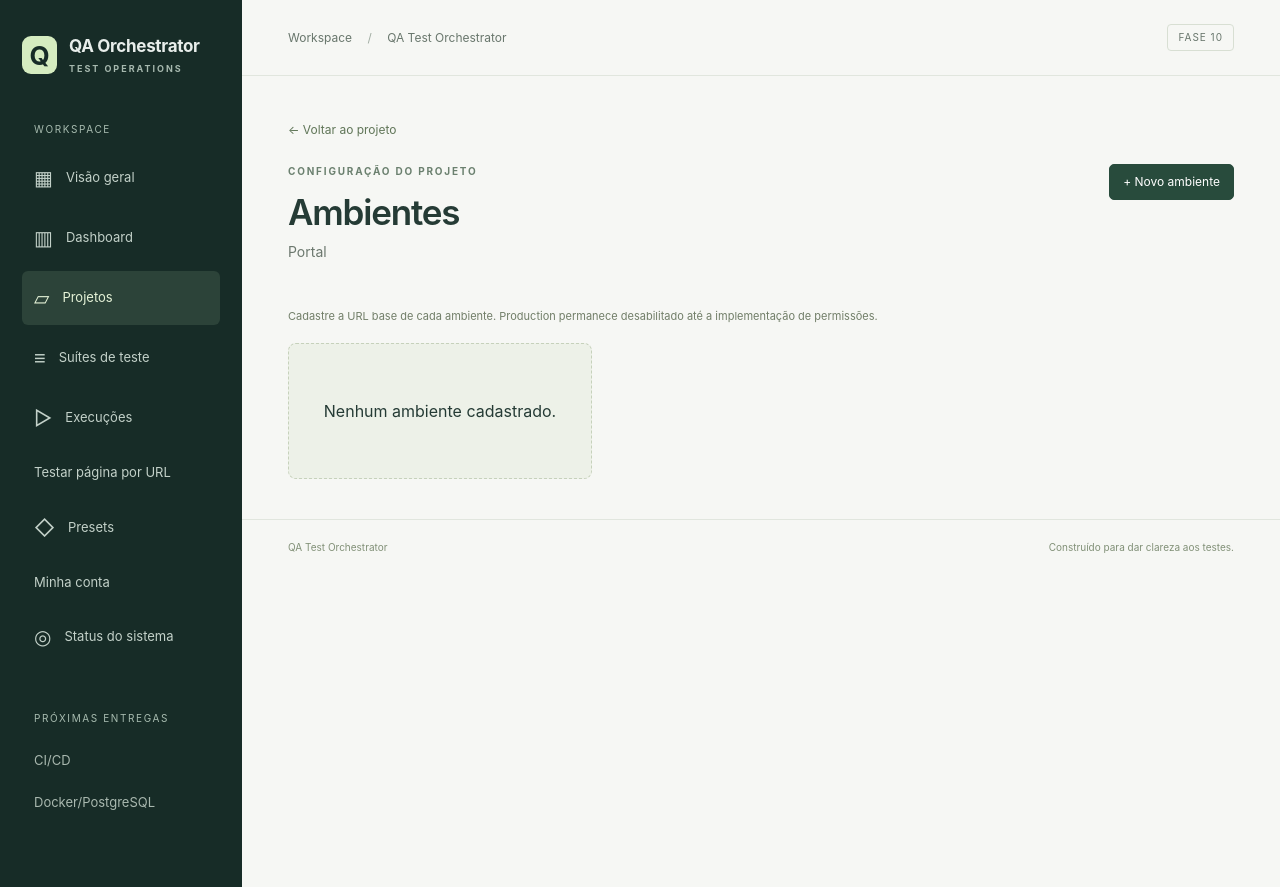
bloqueia Production e preserva URL em erro de gravação
Step 1. Click the button "+ Novo ambiente" → click(1172, 182), box [1109,164,1234,200]
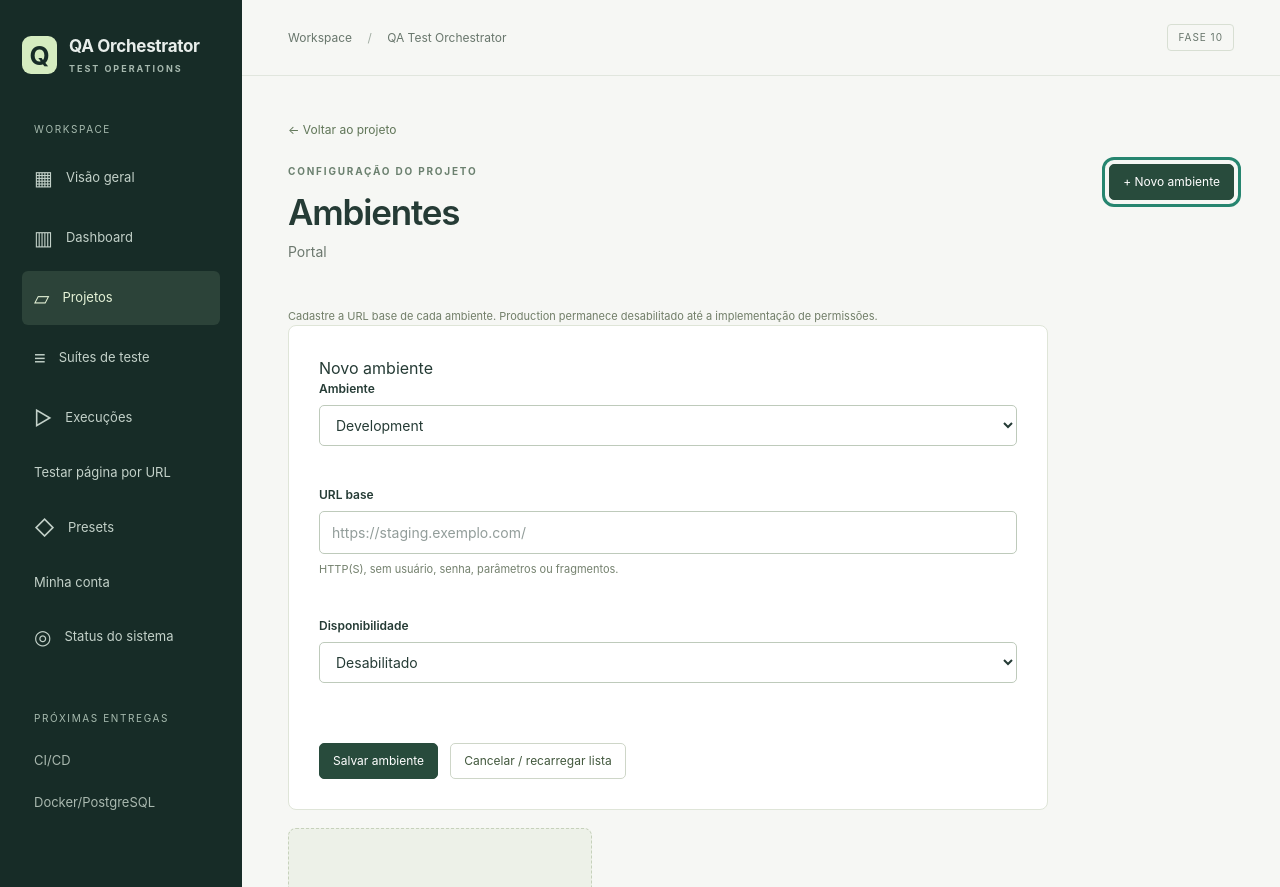
Step 2. Select "Production" in the dropdown labelled "Ambiente" → (668, 425), box [319,404,1017,446]
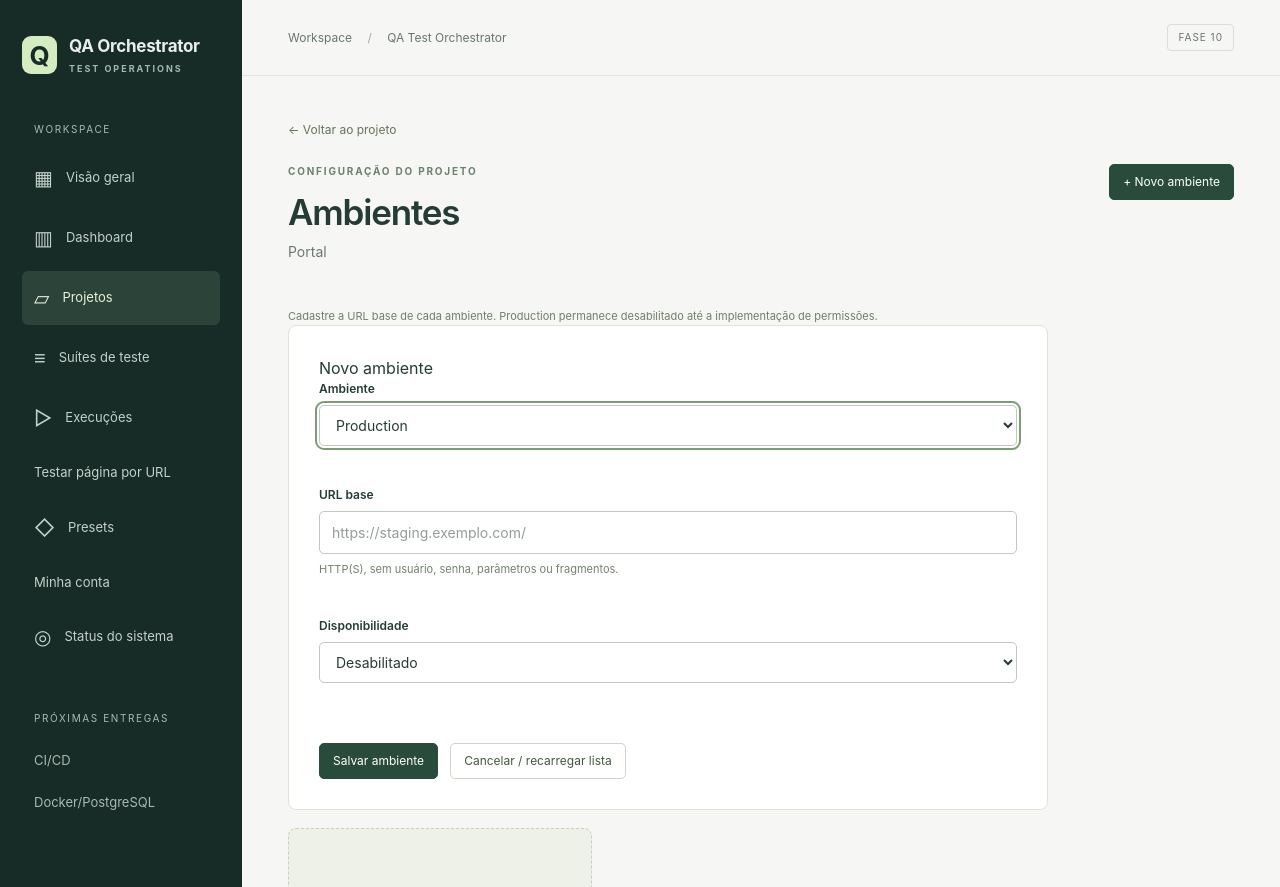
Expected: the dropdown labelled "Disponibilidade" is disabled, [319,642,1017,683]
Step 3. Type "https://example.com" into the field labelled "URL base" → (668, 532), box [319,510,1017,554]
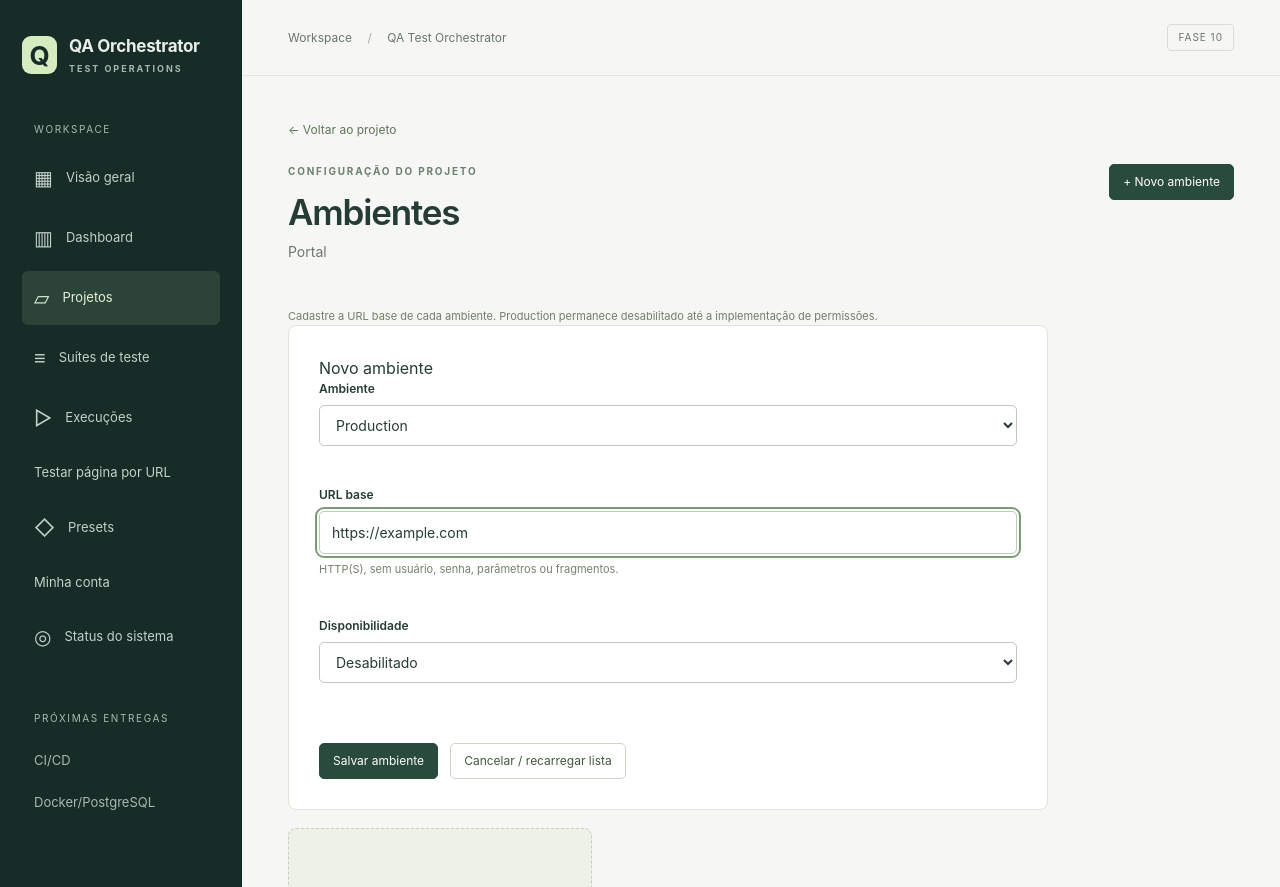
Step 4. Click the button "Salvar ambiente" → click(379, 761), box [319,743,438,779]
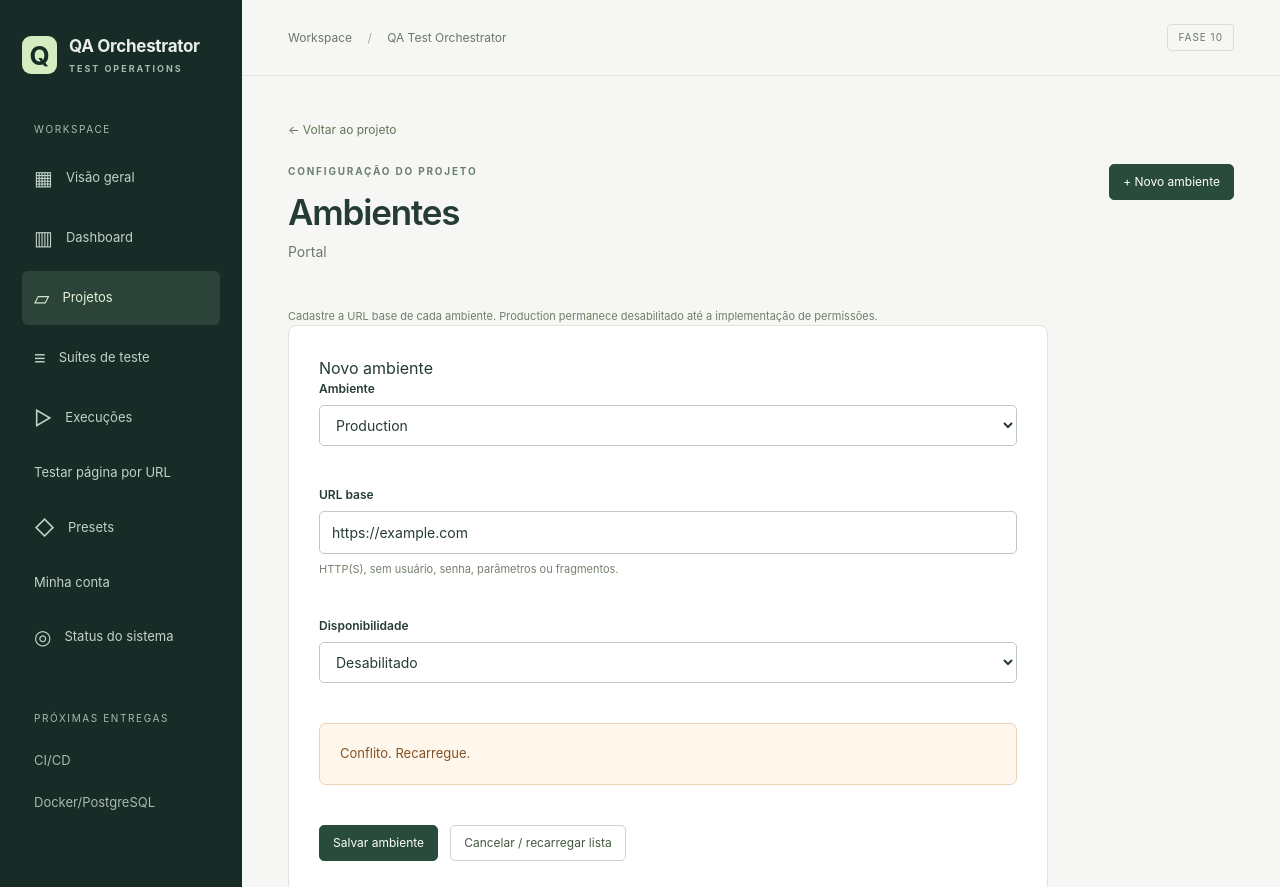
Now the message shows "Conflito", box [340,745,470,761]
